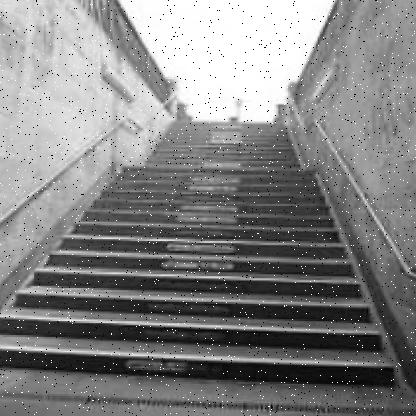stair_up: (65, 186, 377, 376)
